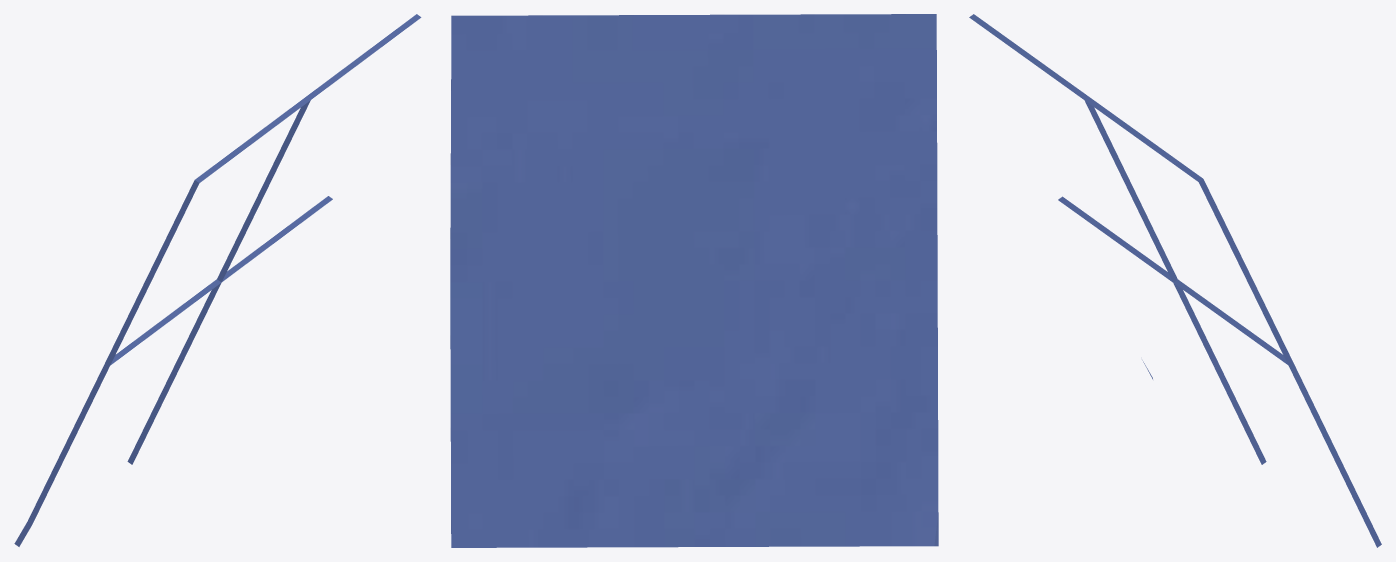
3 renders of one model, left to right at view 1: azimuth 30°, elevation 25°; view 2: azimuth 150°, elevation 25°; view 3: azimuth 270°, elevation 25°, orthographic. The views are drawn at different scales.
Bounding box in the file's own units: 19677 × 17934 × 16308.
Materials: 1 (1 with a texture image).
